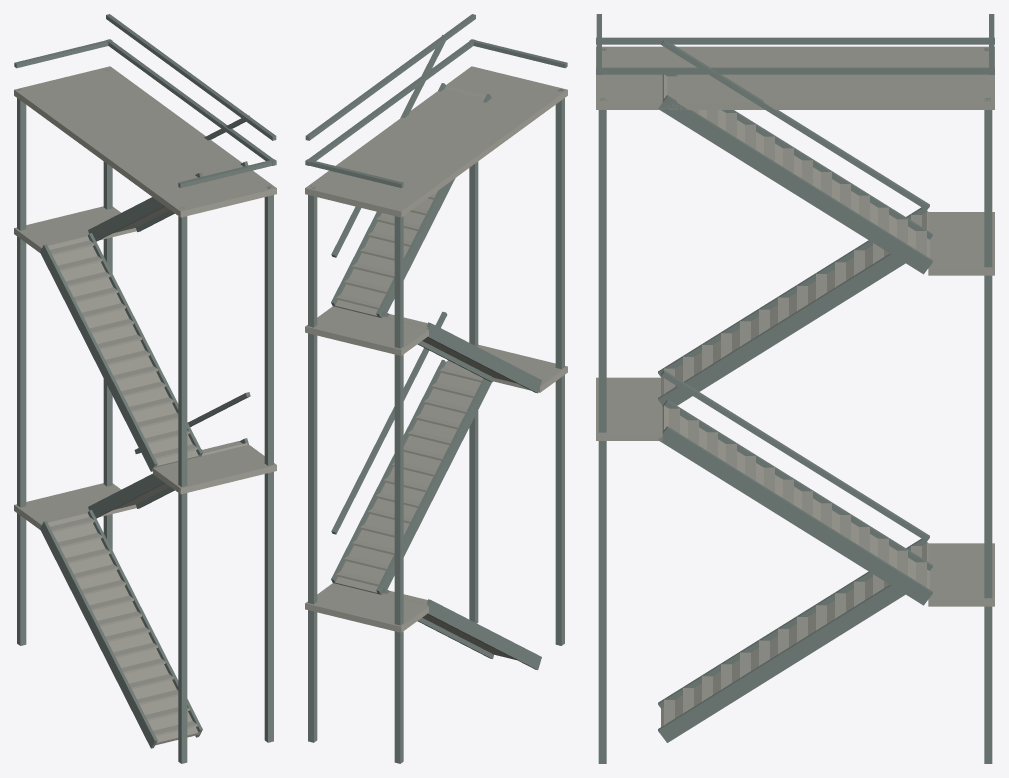
File: SM_EscaleraAzotea_v0_Metalica_LOD0.fbx
3 views of the same model, side by side, from view 1: azimuth 30°, elevation 25°; view 2: azimuth 150°, elevation 25°; view 3: azimuth 270°, elevation 25° (orthographic). The views are drawn at different scales.
Parts seen in each view (by area): view 1: SM_escalera_azotea_v0_LOD0; view 2: SM_escalera_azotea_v0_LOD0; view 3: SM_escalera_azotea_v0_LOD0.
Part boxes in pixels (bbox=[...]): SM_escalera_azotea_v0_LOD0: bbox=[14, 14, 276, 763]; SM_escalera_azotea_v0_LOD0: bbox=[305, 14, 567, 763]; SM_escalera_azotea_v0_LOD0: bbox=[596, 14, 994, 763].
Bounding box in the file's own units: 2.02 × 12.14 × 6.
